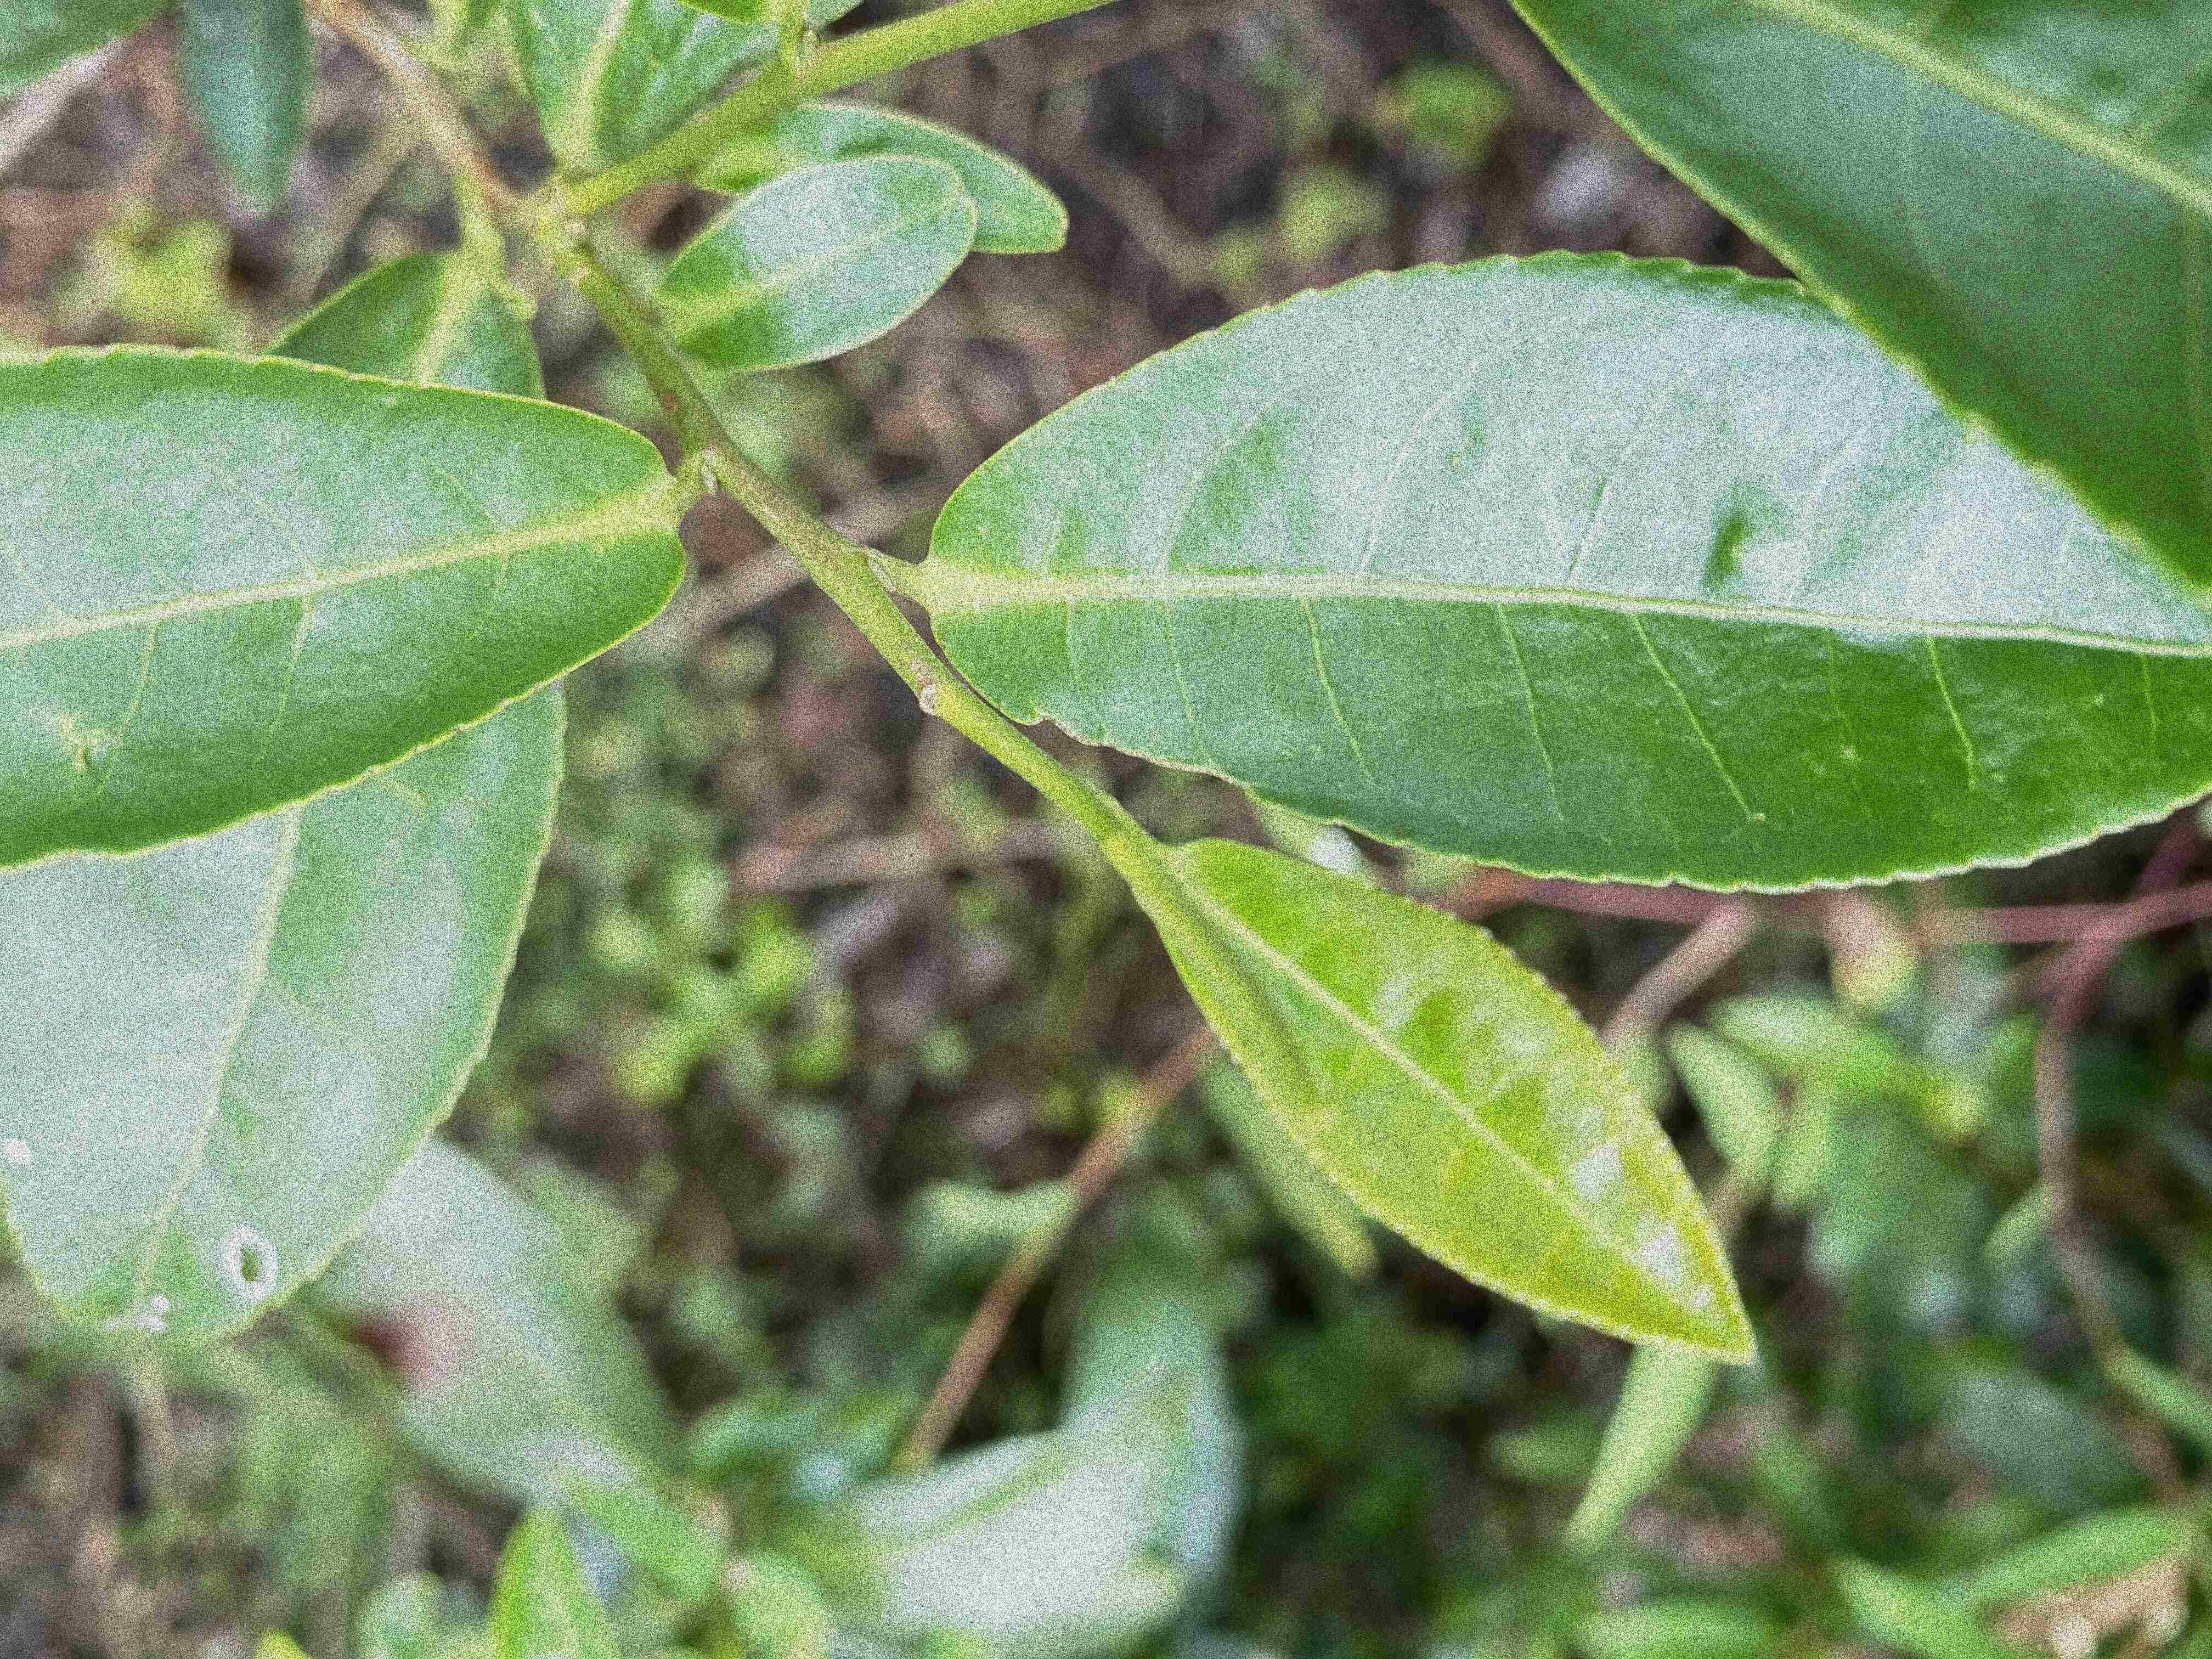chihuo_low: (3, 254, 566, 1354)
healthy: (925, 251, 2209, 899), (3, 340, 690, 875), (1157, 835, 1757, 1364), (662, 153, 981, 373)
